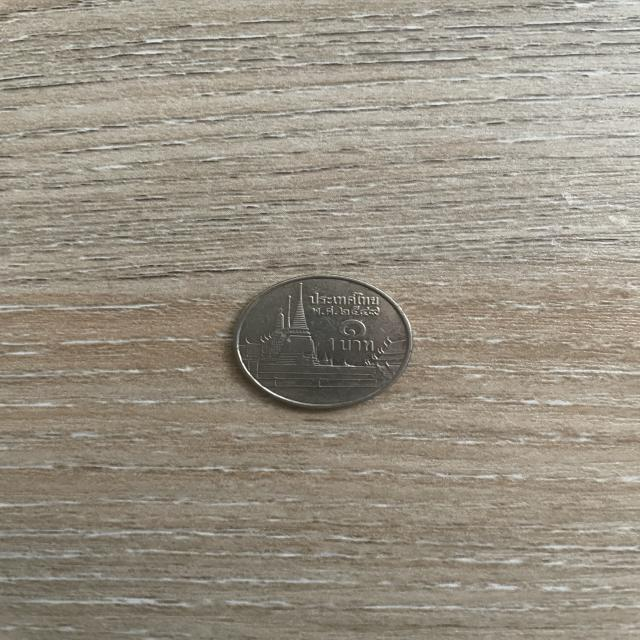1 Bath: (220, 270, 424, 422)
